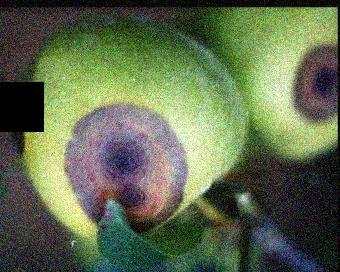rotten apple: (10, 17, 246, 255), (201, 7, 335, 167)
